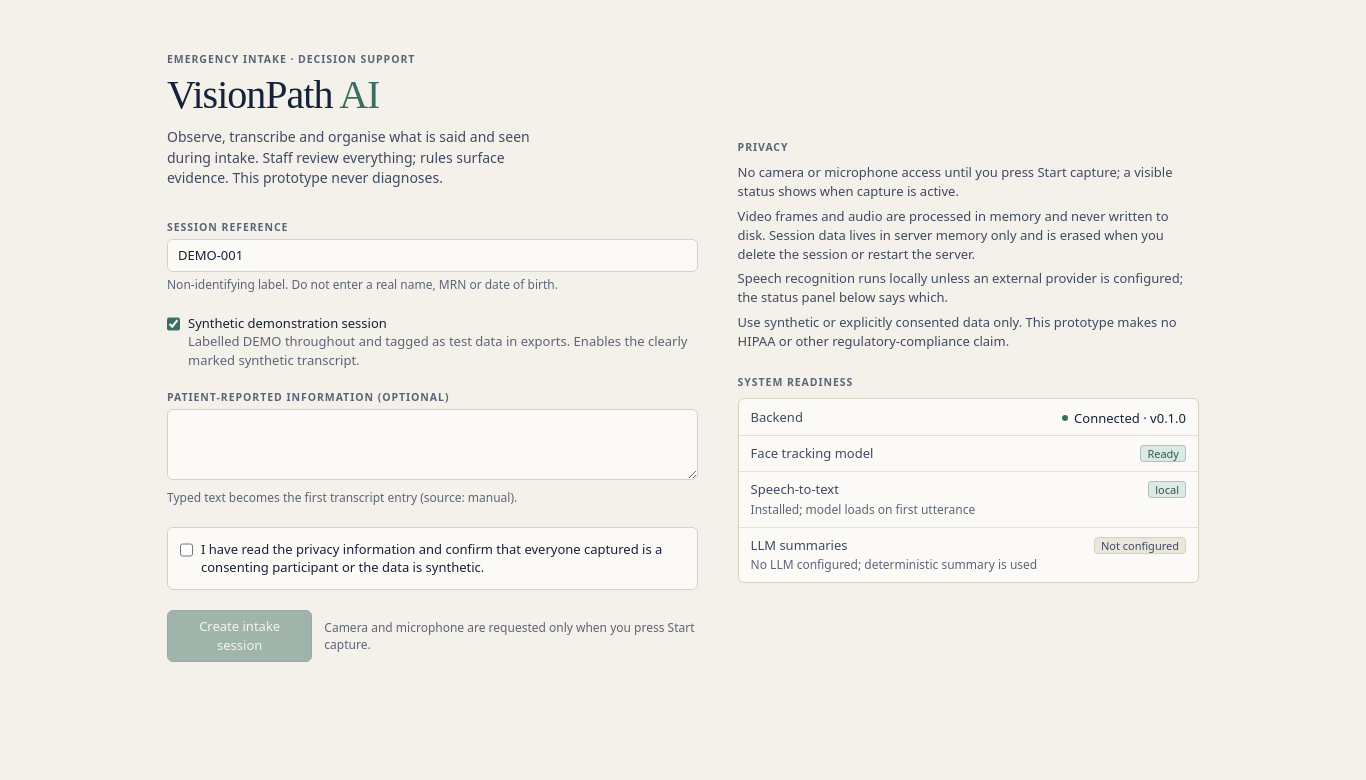
Scenario: device permissions › no devices at all: informs the user and keeps the session usable
The width and height of the screenshot is (1366, 780).
Expected: the text "Connected · v0.1.0" is shown, [1062,409,1186,427]
Click the checkbox labelled "I have read the privacy information". click: point(186, 550)
box: [180,542,193,558]
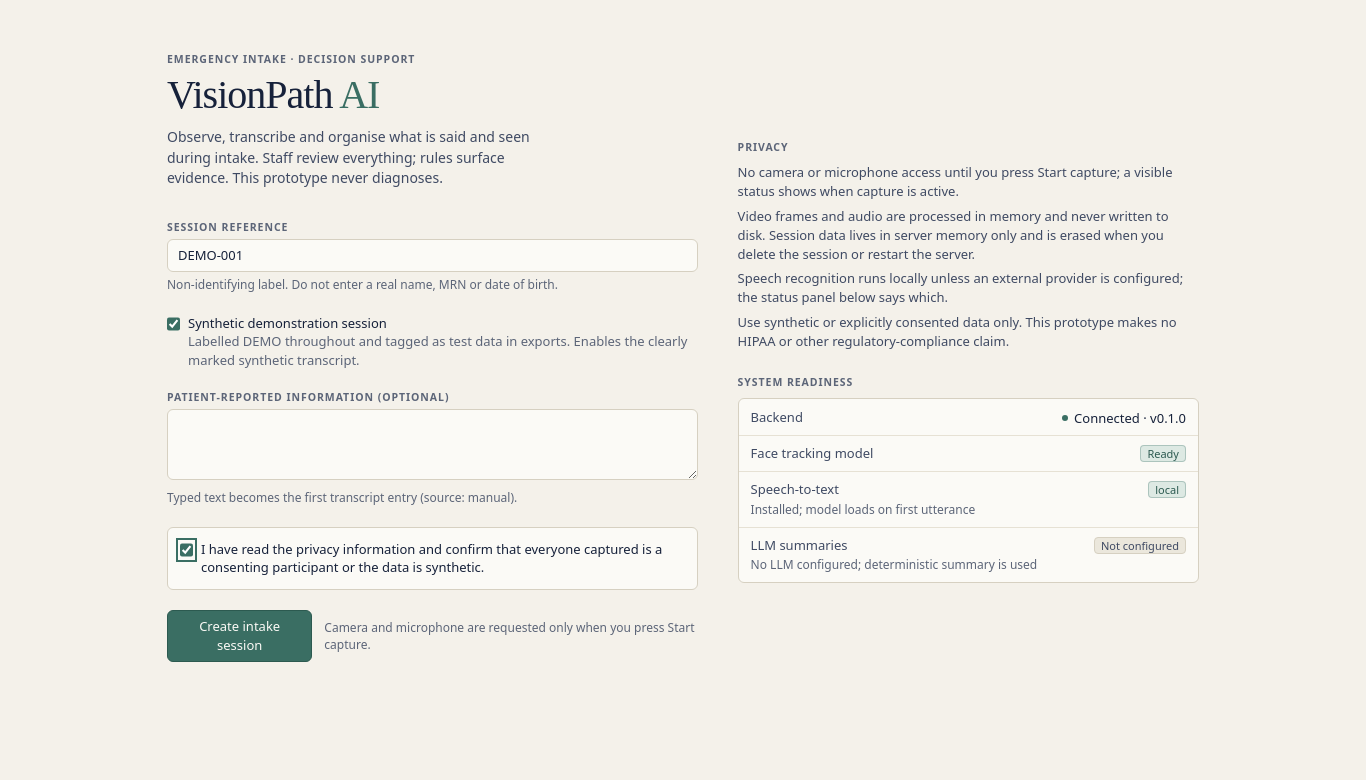
Click the button "Create intake session". click: point(240, 636)
box: [167,610,312,662]
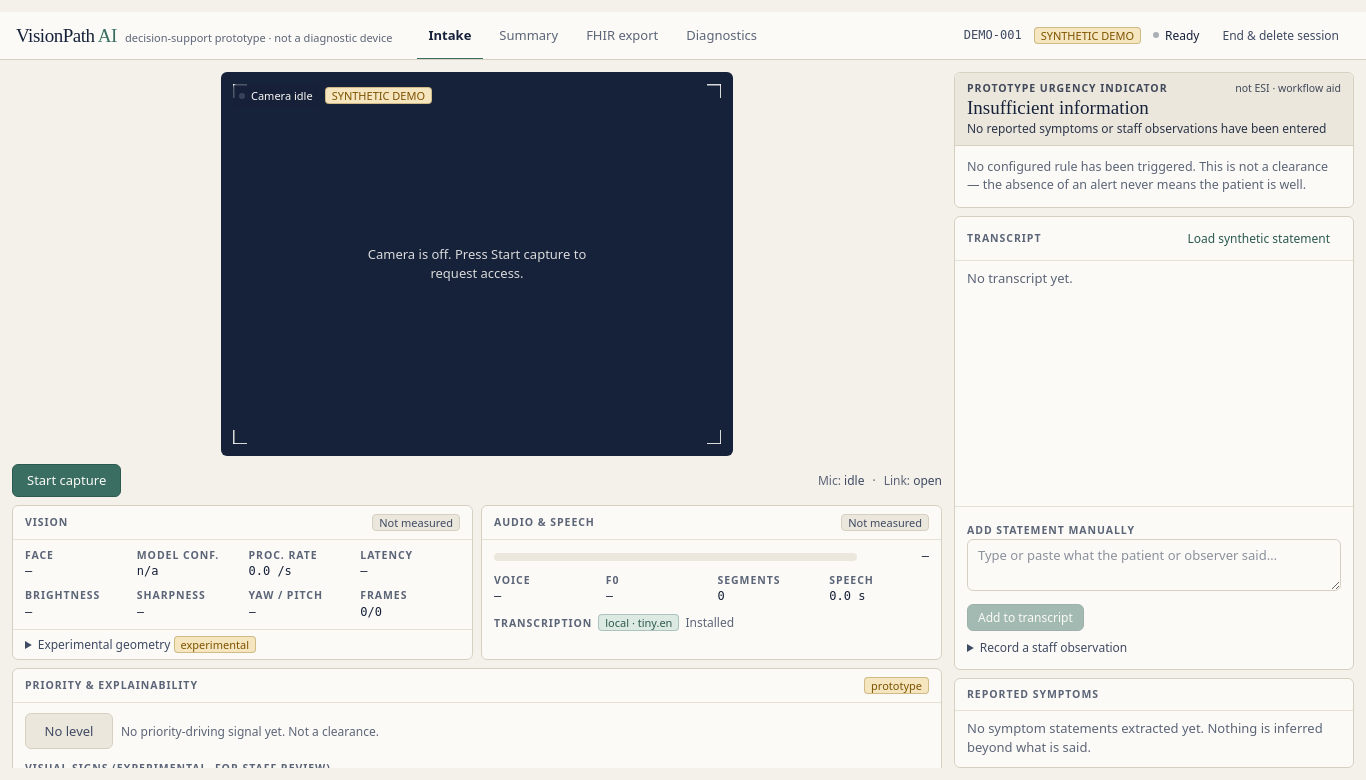
Expected: the text "DEMO-001" is shown, [964,27,1022,44]
Expected: the text with test id "ws-status" reads "open", [913,472,942,489]
Click the button "Start capture". click: point(67, 480)
box: [12,464,121,497]
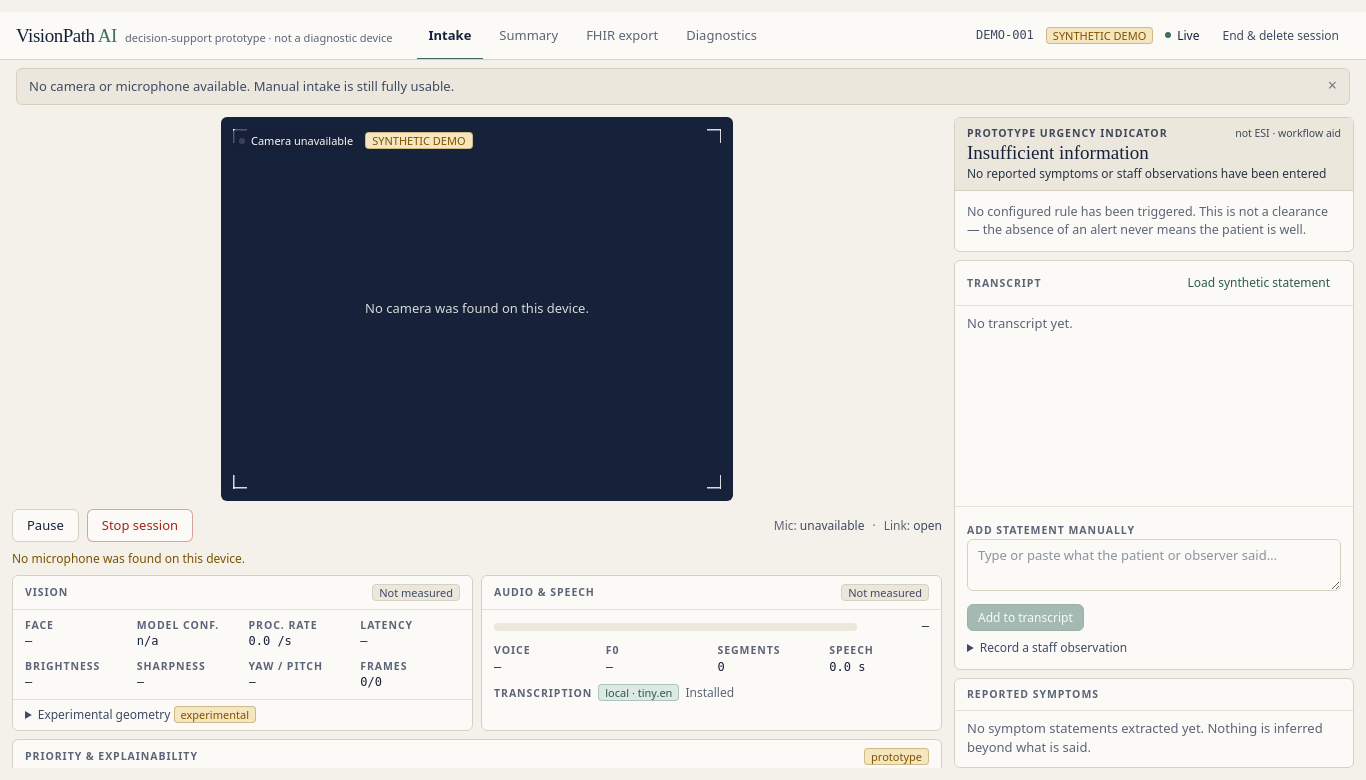
Expected: the text "No camera or microphone available" is shown, [29,77,454,95]
Expected: the message with test id "camera-message" shows "No camera was found", [365,299,589,317]
Expected: the button "Pause" is shown, [12,509,79,542]
